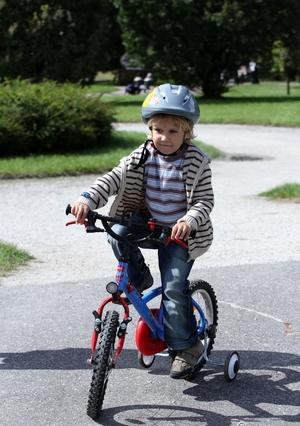person: (73, 84, 215, 376)
